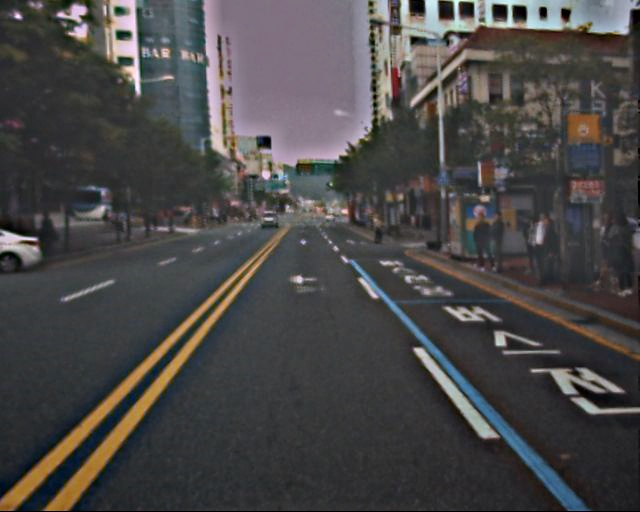person: (593, 210, 633, 299), (521, 213, 559, 282), (483, 209, 512, 280), (472, 214, 497, 274), (370, 211, 385, 248)
